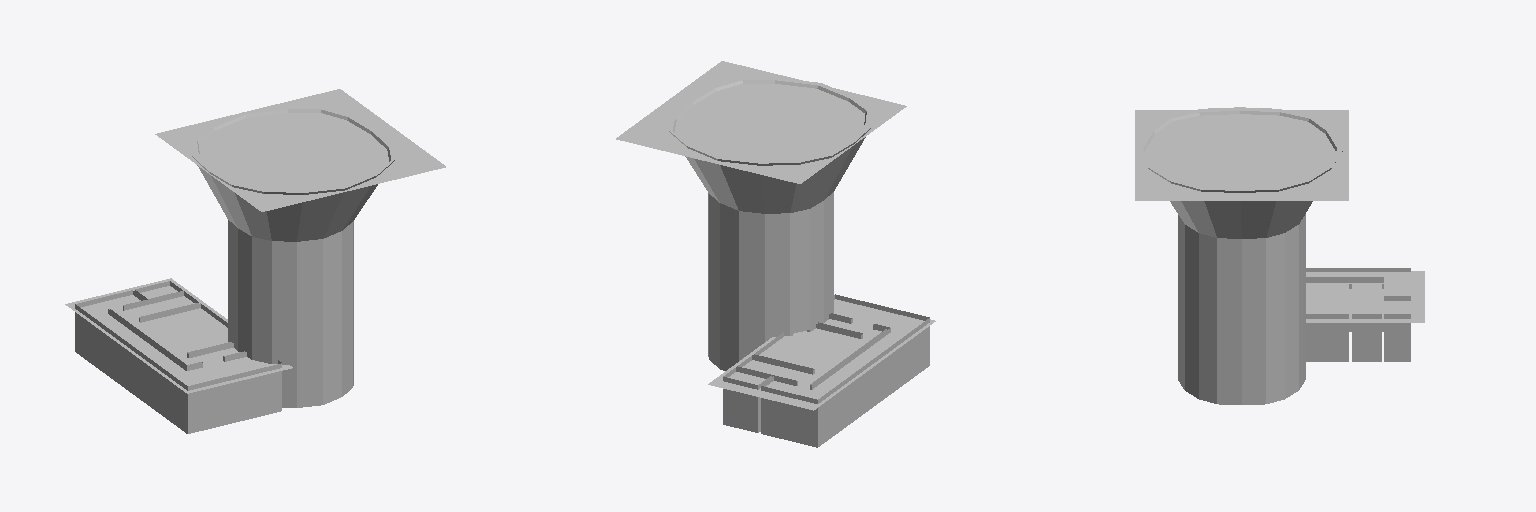
Rendered from dungeon1.obj.
The picture shows the model from 3 angles: view 1: azimuth 30°, elevation 25°; view 2: azimuth 150°, elevation 25°; view 3: azimuth 270°, elevation 25°; orthographic projection.
Parts seen in each view (by area): view 1: Plane, Plane.001, Cube, Plane.002; view 2: Plane, Plane.001, Cube, Plane.002; view 3: Plane, Plane.001, Cube, Plane.002.
Part boxes in pixels (x1,y1,x2,y2): Plane: (192,107,396,407); Plane.001: (155,89,445,211); Cube: (75,281,281,433); Plane.002: (65,278,292,393); Plane: (667,78,871,370); Plane.001: (616,61,906,183); Cube: (723,294,929,447); Plane.002: (708,299,935,410); Plane: (1136,107,1343,404); Plane.001: (1135,110,1348,200); Cube: (1306,268,1410,361); Plane.002: (1306,271,1424,322).
Size of the model in its own units: 39.12 by 36.52 by 41.51.